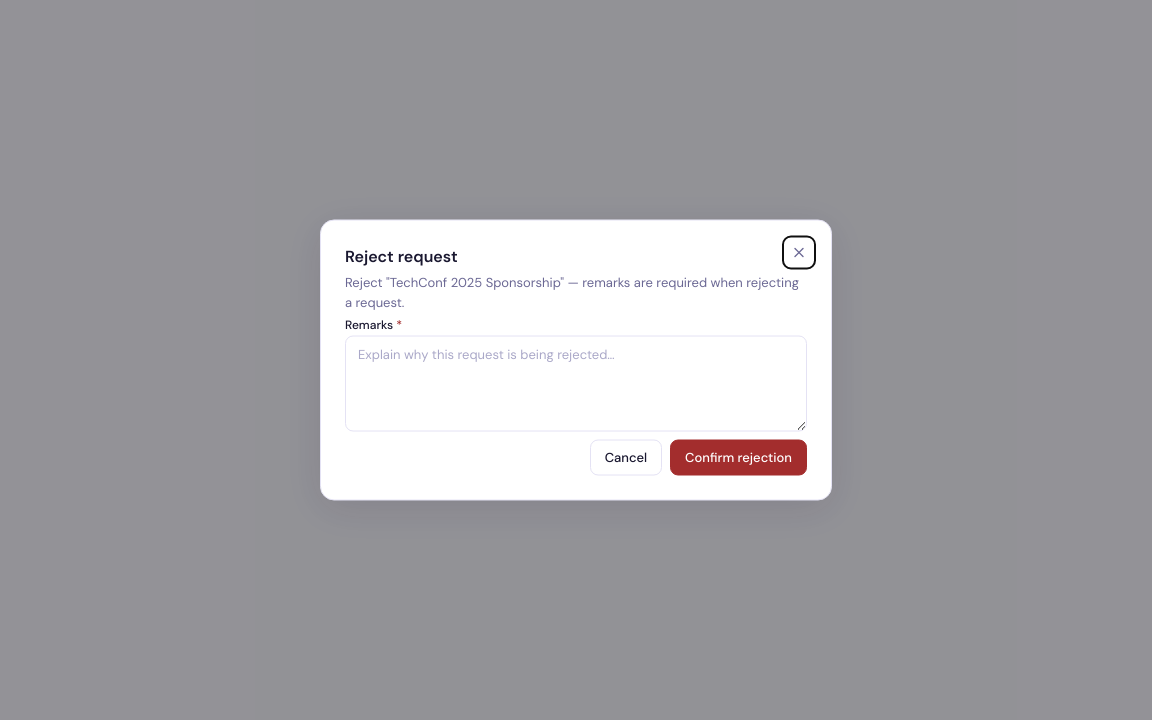
Test: ApproveRejectModal › shows validation when reject remarks are empty
Click the button "Confirm rejection": (739, 458) [670,440,807,476]
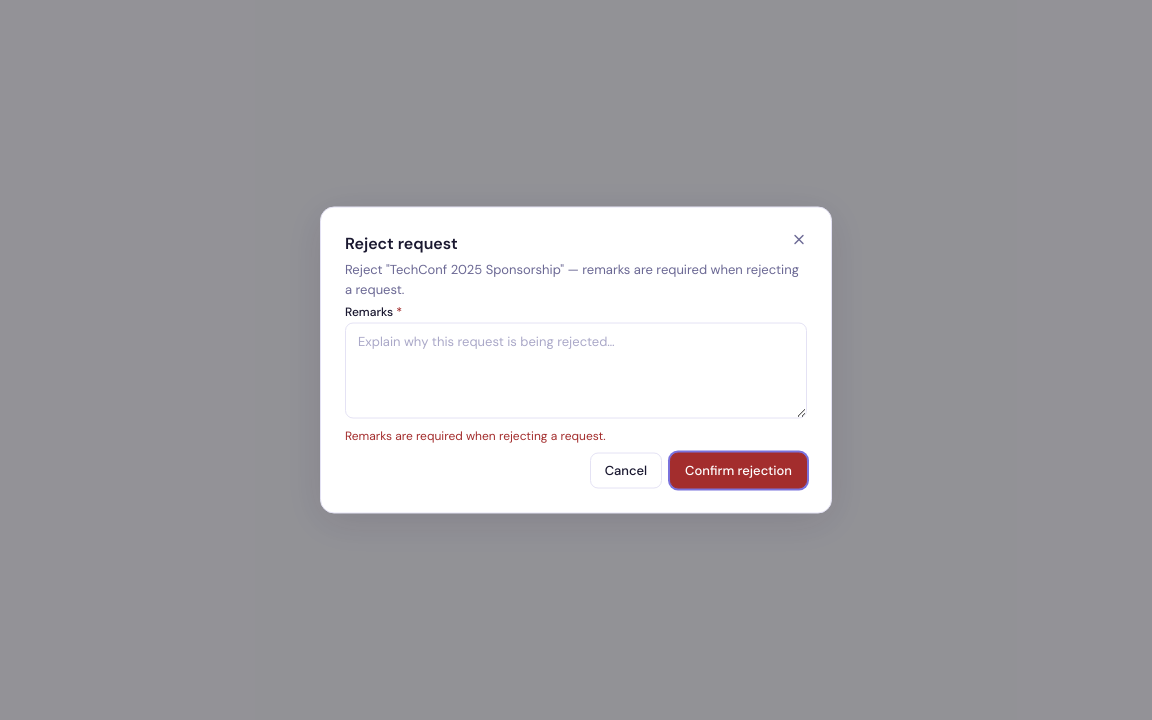
Now the message reads "Remarks are required when rejecting a request.", box [345,428,606,444]
